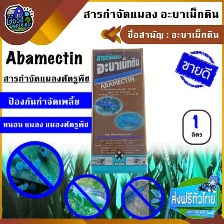carton: (87, 45, 149, 178)
